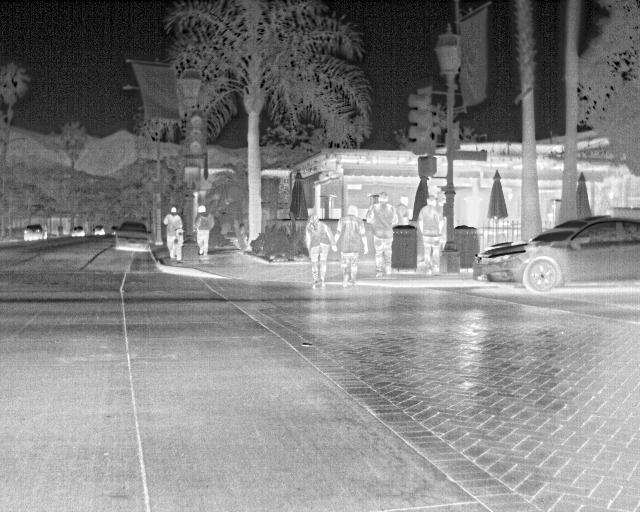bicycle: (472, 214, 639, 292), (111, 219, 155, 255), (22, 222, 49, 243), (70, 223, 88, 240), (94, 223, 108, 238)
empty: (332, 205, 368, 286), (304, 211, 338, 290), (368, 191, 398, 277), (416, 196, 445, 275), (162, 205, 183, 264), (192, 205, 216, 256), (394, 195, 410, 223)
